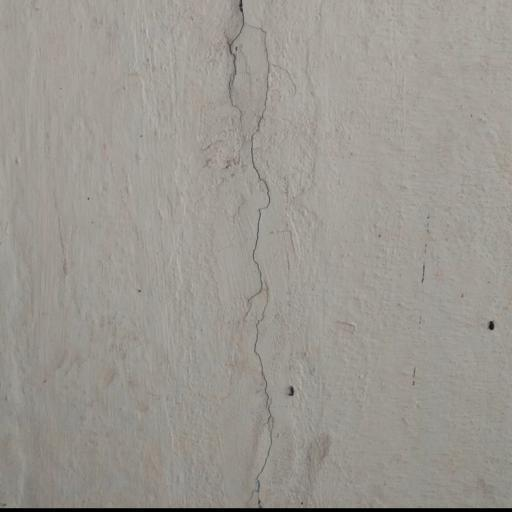minor_crack: (216, 0, 284, 512)
